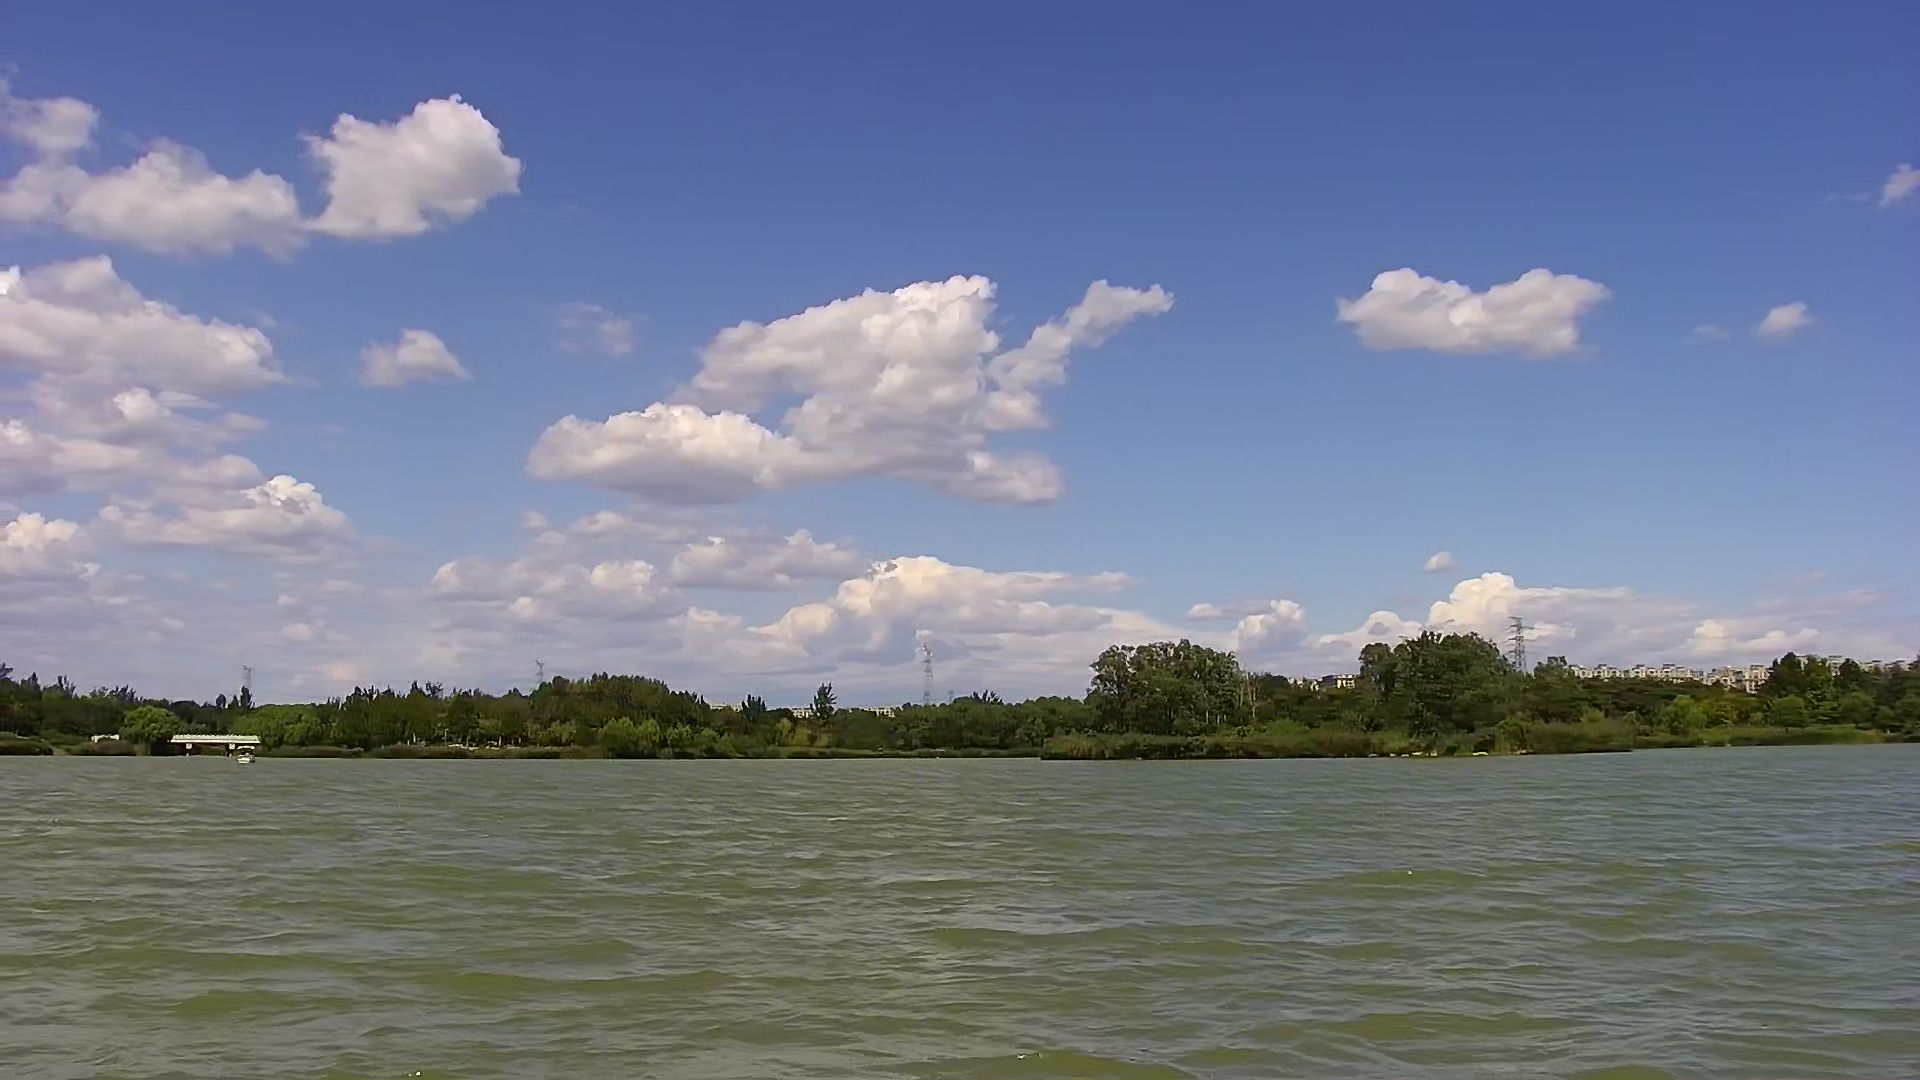boat: (231, 740, 258, 770)
bridge: (169, 717, 276, 758)
